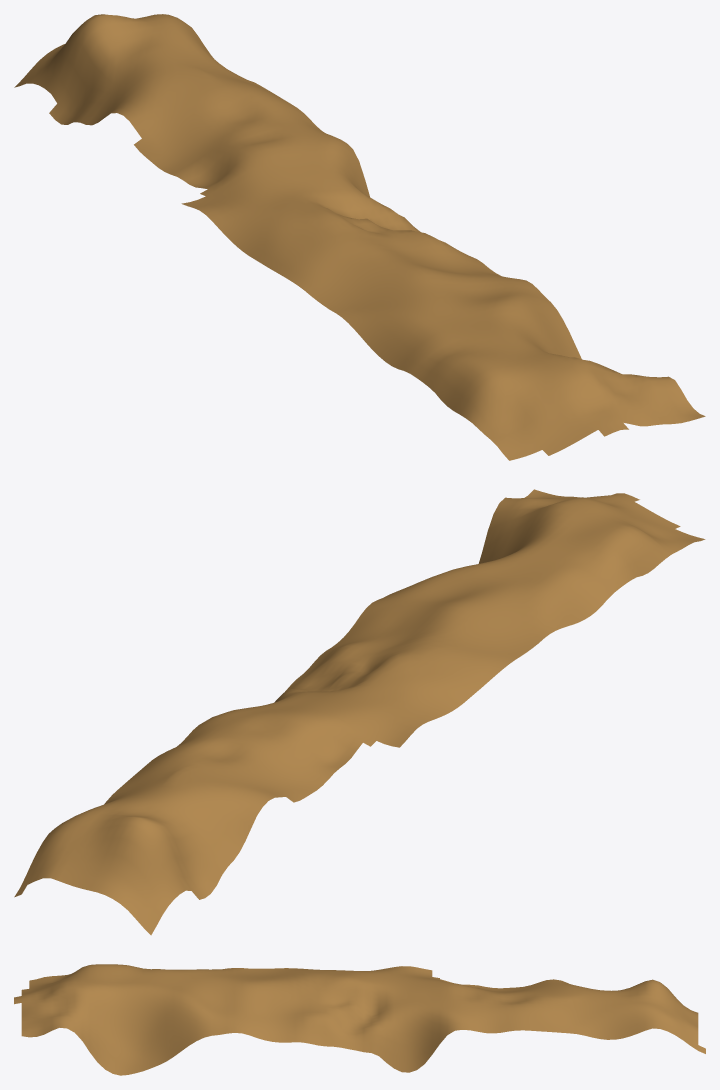
Rendered from cheminTestTuto.fbx.
3 views of the same model, one above another, from view 1: azimuth 30°, elevation 25°; view 2: azimuth 150°, elevation 25°; view 3: azimuth 270°, elevation 25° (orthographic). The views are drawn at different scales.
Parts seen in each view (by area): view 1: chemin; view 2: chemin; view 3: chemin.
Boxes of the visible parts, x1,y1,x2,y2 form: chemin: [14, 14, 705, 460]; chemin: [14, 489, 705, 935]; chemin: [14, 964, 705, 1075].
Size of the model in its own units: 13.86 by 7.67 by 71.01.
